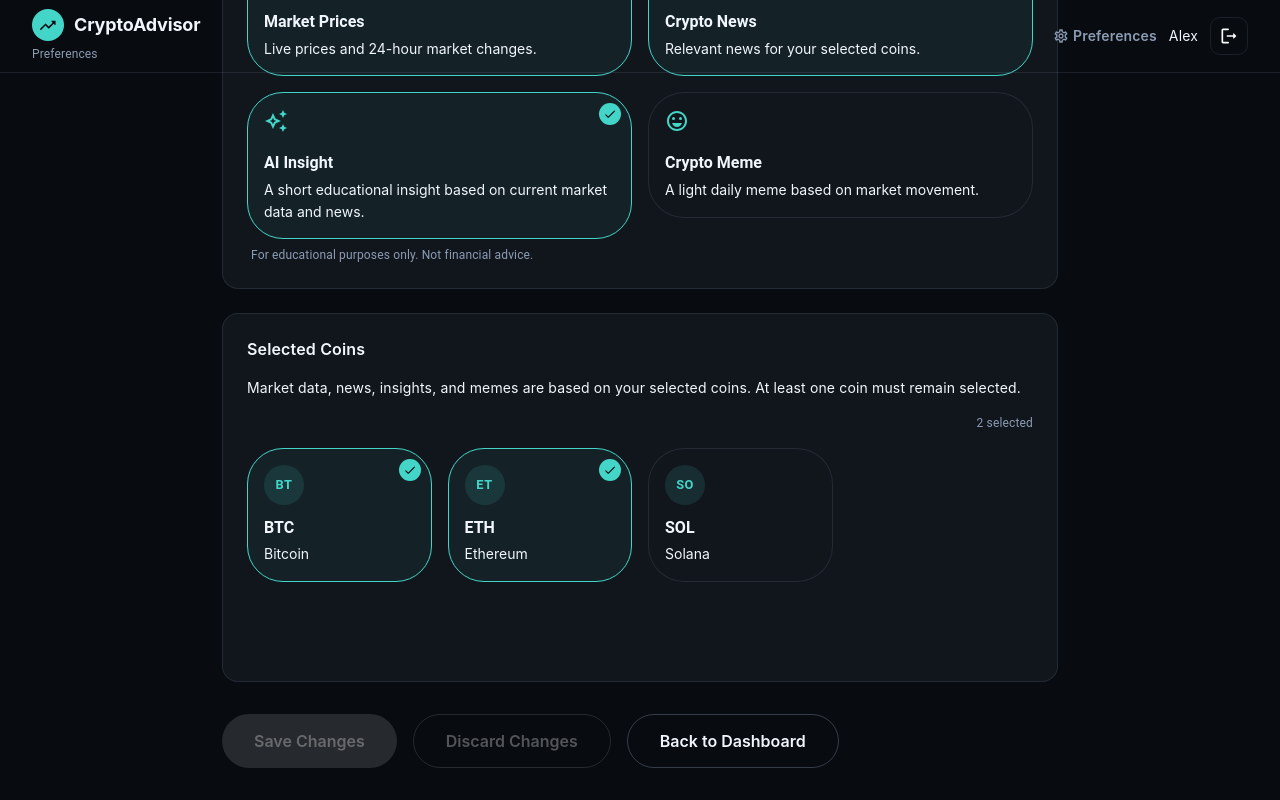
Scenario: preferences page › requires at least one selected coin before saving
The image size is (1280, 800).
(page scrolled)
Expected: the button "Save Changes" is shown, [222, 714, 397, 768]
What coordinates should you click on to do the following:
click the button "BT BTC Bitcoin"
I would click on:
 (339, 515)
Its box is [247, 448, 432, 582].
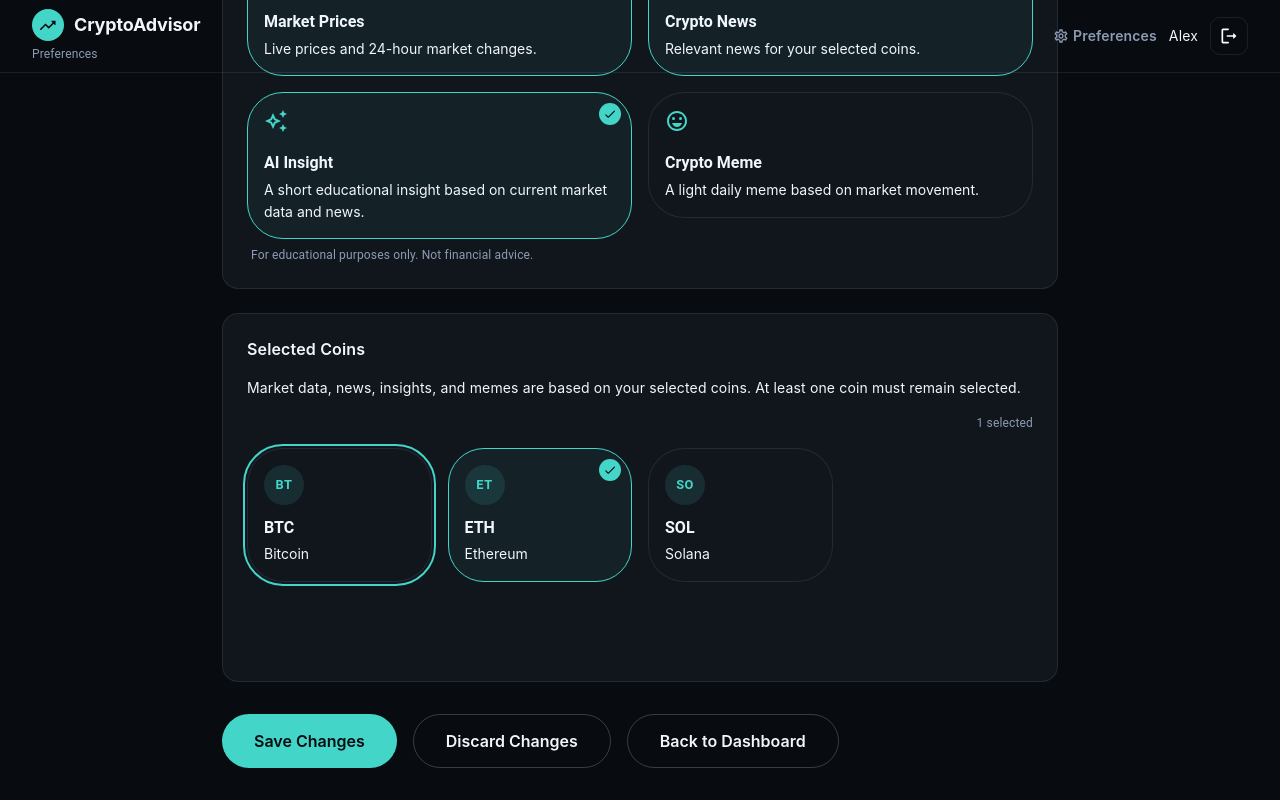
What coordinates should you click on to do the following:
click the button "ET ETH Ethereum"
I would click on:
 (540, 515)
Its box is [448, 448, 632, 582].
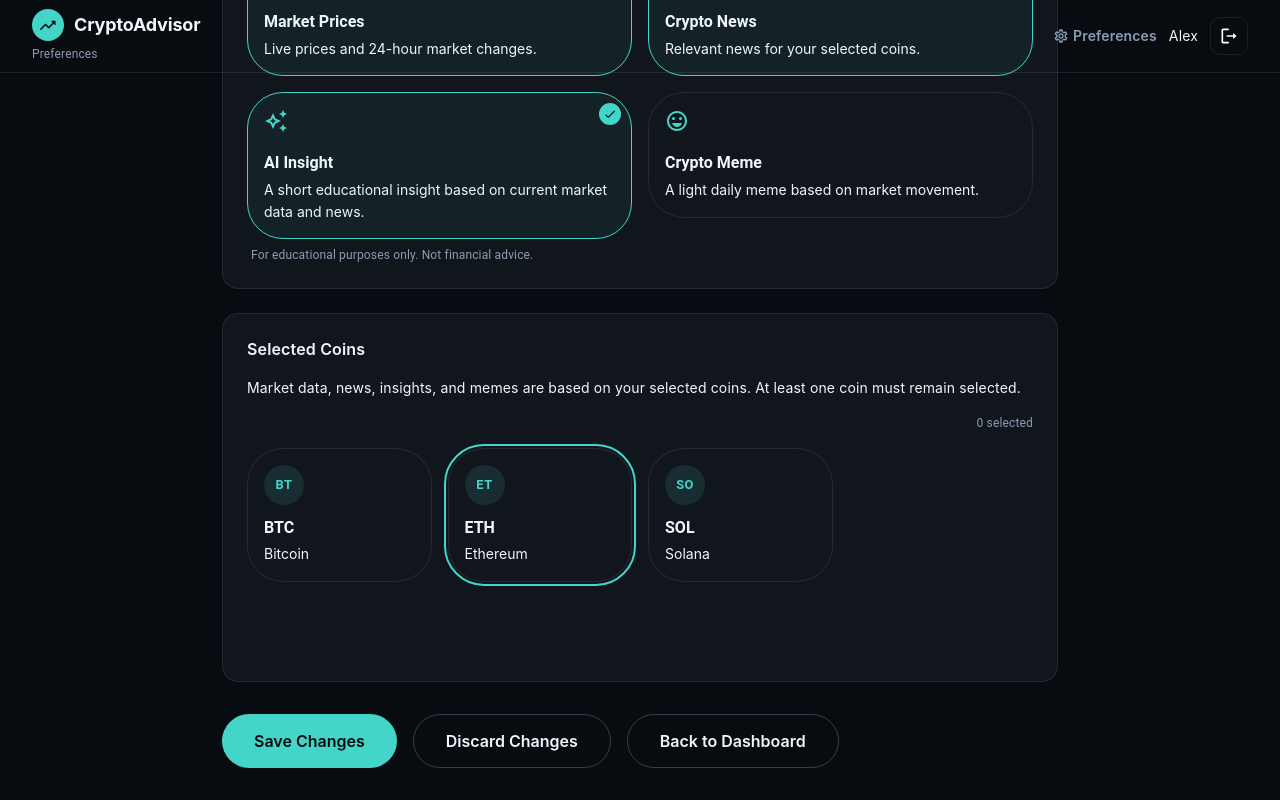
What coordinates should you click on to do the following:
click the button "Save Changes"
I would click on:
 (309, 741)
Its box is [222, 714, 397, 768].
(page scrolled)
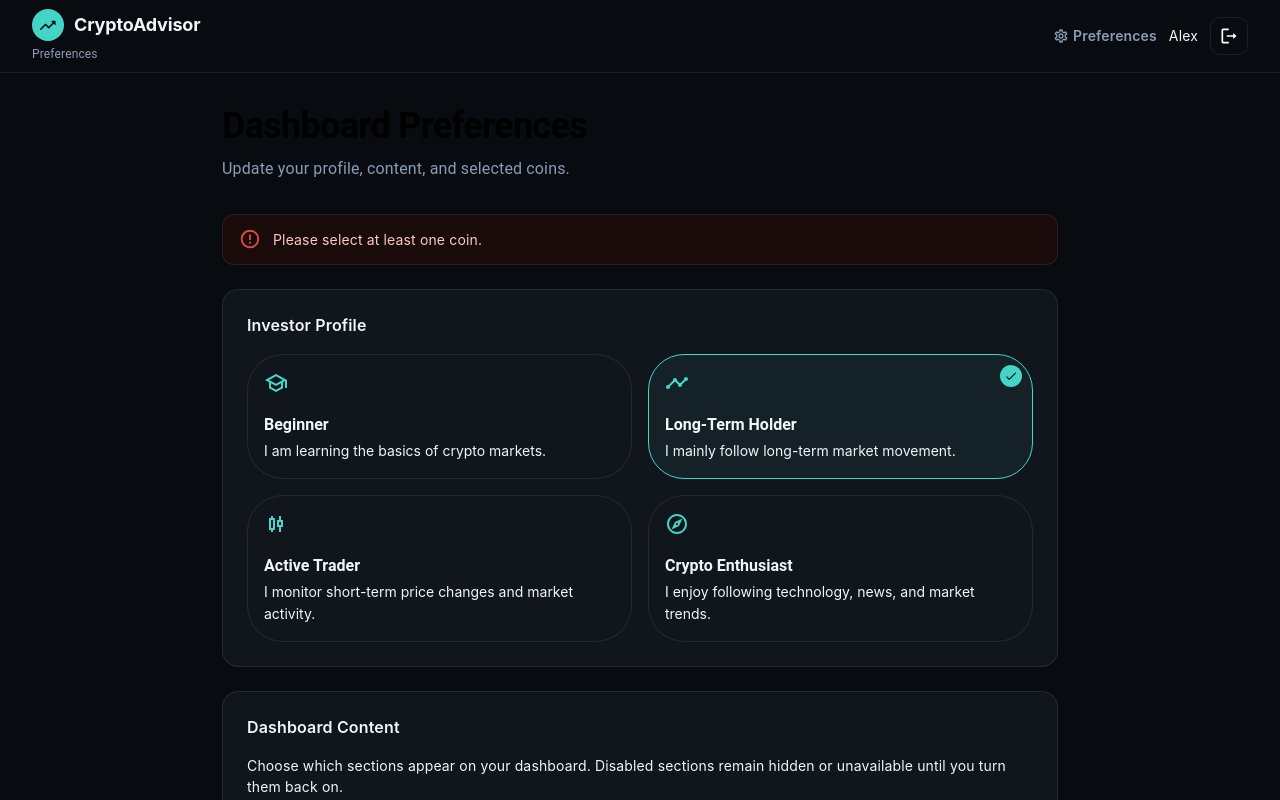
Expected: the text "Please select at least one coin." is shown, [273, 231, 482, 248]
